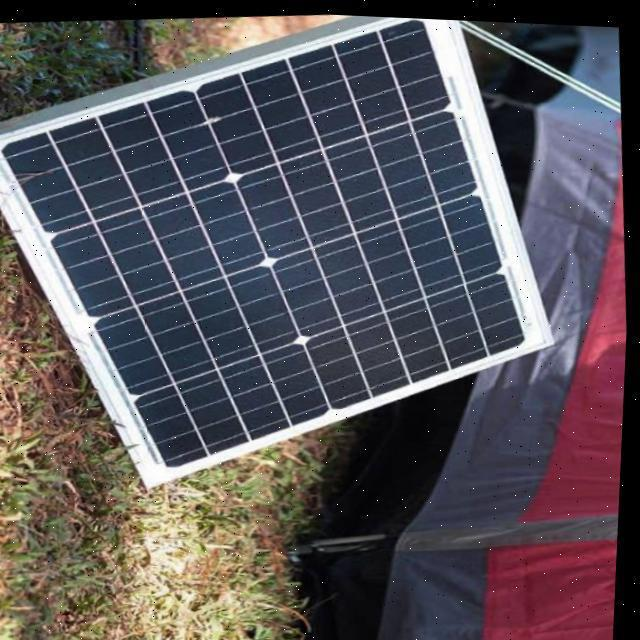Normal Solar Panel: (0, 0, 568, 506)
